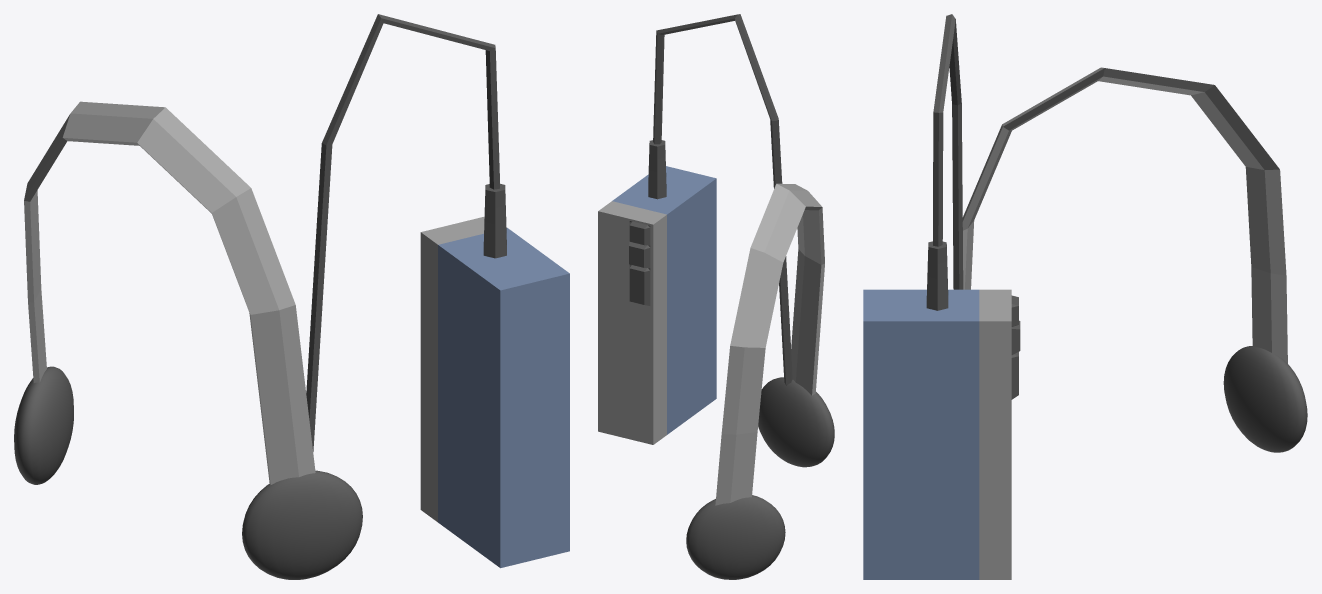
Rendered from Walkman Textured.fbx.
The picture shows the model from 3 angles, left to right: view 1: azimuth 30°, elevation 25°; view 2: azimuth 150°, elevation 25°; view 3: azimuth 270°, elevation 25°; orthographic projection. The views are drawn at different scales.
Parts seen in each view (by area): view 1: pCube1, pasted__pCylinder2, pSphere2, pCylinder2, pSphere3, pCylinder1; view 2: pCube1, pasted__pCylinder2, pSphere3, pSphere2, pCylinder2, pCylinder1; view 3: pCube1, pasted__pCylinder2, pSphere3, pCylinder2, pCylinder1.
Part boxes in pixels (box(x1,y1,x2,y2)): pCube1: box(420, 216, 569, 568); pasted__pCylinder2: box(24, 101, 315, 484); pSphere2: box(242, 470, 362, 579); pCylinder2: box(306, 14, 499, 451); pSphere3: box(14, 366, 73, 484); pCylinder1: box(483, 183, 506, 258); pCube1: box(598, 166, 716, 444); pasted__pCylinder2: box(715, 183, 824, 505); pSphere3: box(686, 495, 785, 579); pSphere2: box(758, 377, 834, 467); pCylinder2: box(653, 14, 792, 385); pCylinder1: box(648, 140, 666, 199); pCube1: box(863, 289, 1020, 579); pasted__pCylinder2: box(962, 67, 1287, 363); pSphere3: box(1223, 346, 1307, 452); pCylinder2: box(933, 14, 963, 289); pCylinder1: box(926, 241, 948, 310).
Size of the model in its own units: 3.58 by 5.3 by 4.18.
